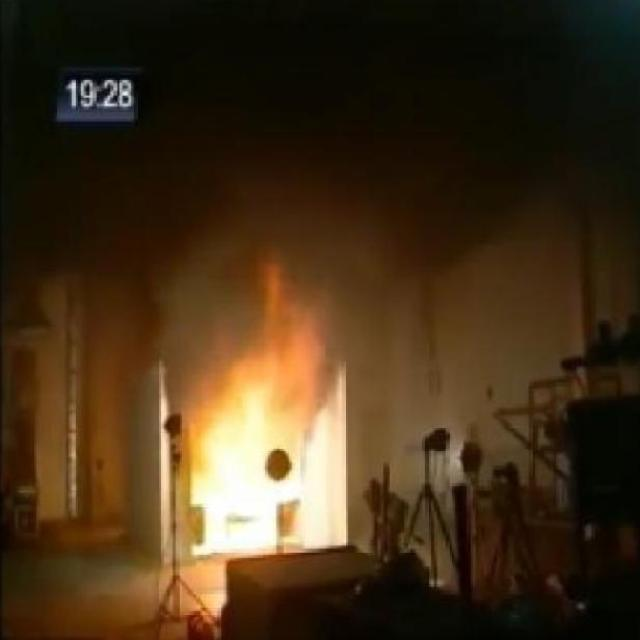smoke: (186, 248, 342, 558)
